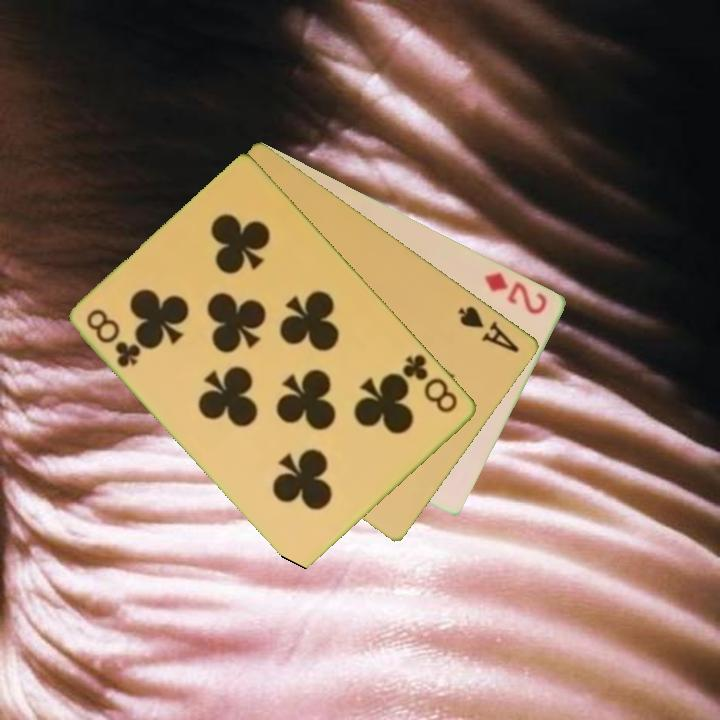2d: (482, 268, 551, 318)
8c: (399, 350, 462, 417), (83, 305, 145, 371)
As: (454, 302, 523, 356)
